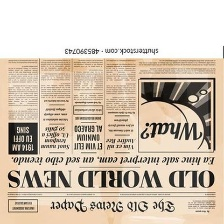news_paper: (0, 58, 224, 223)
